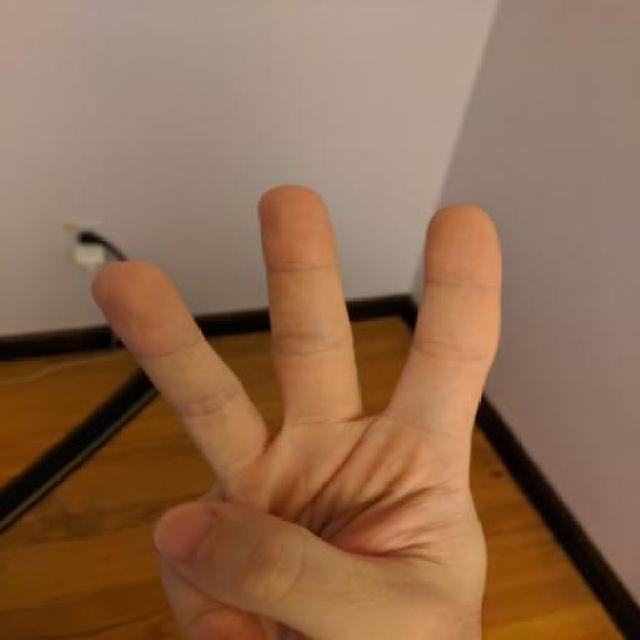W: (81, 175, 511, 640)
